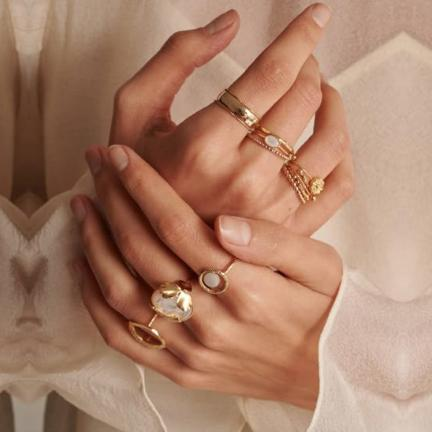Nail: (218, 215, 251, 246), (205, 10, 234, 35), (105, 145, 127, 171), (311, 2, 332, 28), (86, 150, 101, 173), (70, 198, 84, 222), (72, 263, 81, 276)
